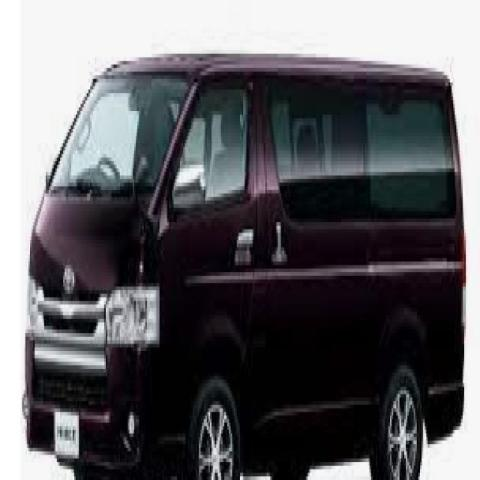van: (23, 50, 468, 480)
